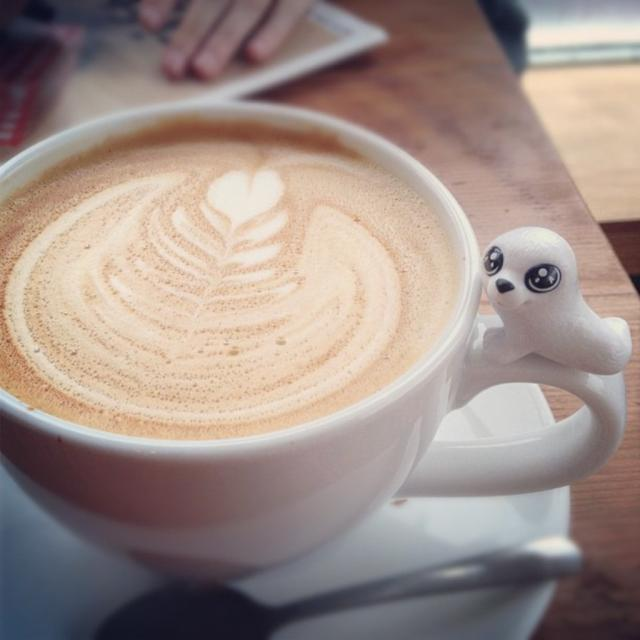latte: (2, 97, 477, 451)
